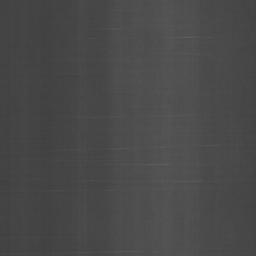Waist folding: (0, 247, 159, 256), (135, 178, 217, 184), (107, 144, 163, 151), (106, 161, 170, 167), (81, 178, 116, 184), (23, 188, 63, 193), (174, 35, 211, 40), (200, 143, 219, 148)
